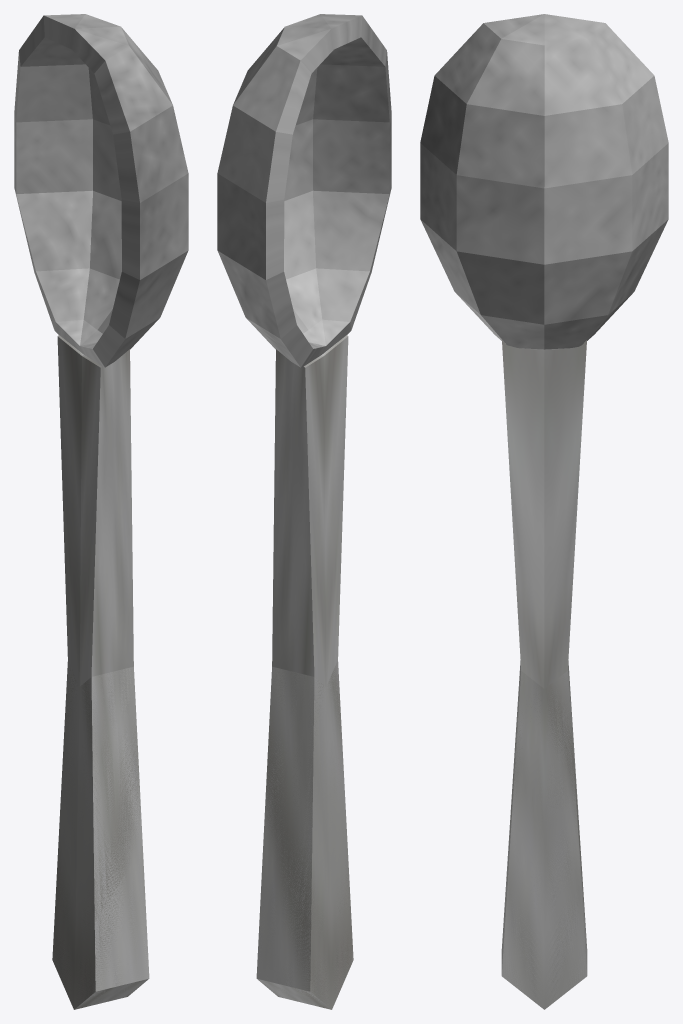
File: spoon.fbx
3 renders of one model, left to right at view 1: azimuth 30°, elevation 25°; view 2: azimuth 150°, elevation 25°; view 3: azimuth 270°, elevation 25°, orthographic.
Parts seen in each view (by area): view 1: Cone, Sphere; view 2: Cone, Sphere; view 3: Sphere, Cone.
Boxes of the visible parts, x1,y1,x2,y2 form: Cone: (52,335,149,1009); Sphere: (14,14,188,367); Cone: (256,335,353,1009); Sphere: (217,14,391,367); Sphere: (420,14,668,350); Cone: (501,340,587,1009).
Bounding box in the file's own units: 233 × 2084 × 484.
